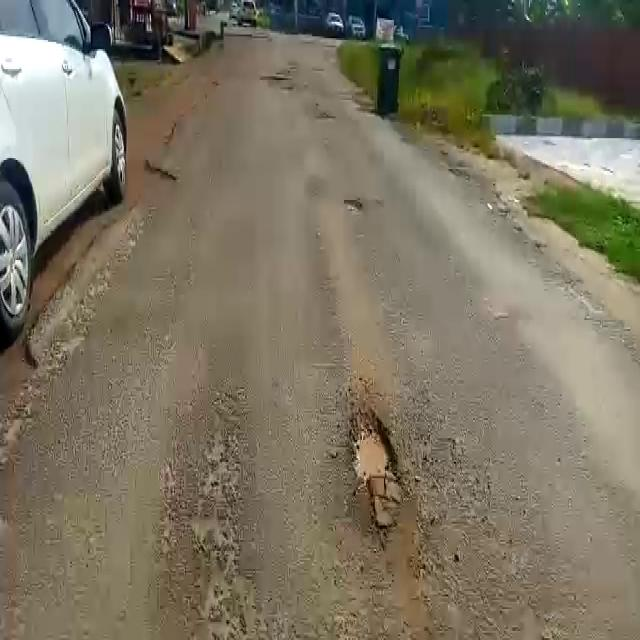Pothole: (343, 407, 407, 537)
